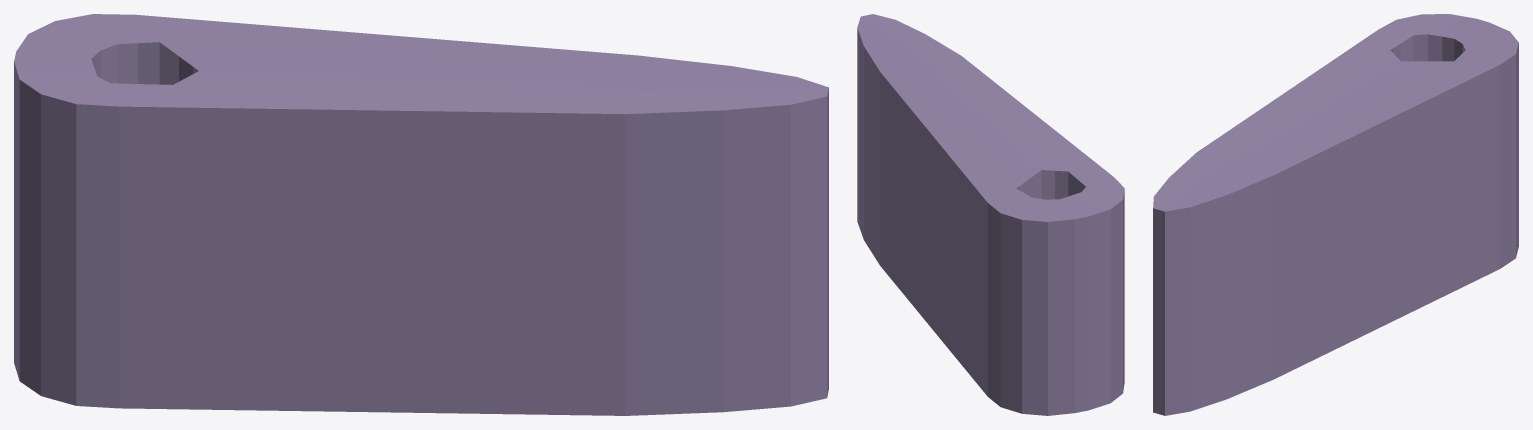
File: Flipper.obj
3 views of the same model, side by side, from view 1: azimuth 30°, elevation 25°; view 2: azimuth 150°, elevation 25°; view 3: azimuth 270°, elevation 25° (orthographic). The views are drawn at different scales.
Visible parts, largest first — view 1: Plane_009_Plane_005; view 2: Plane_009_Plane_005; view 3: Plane_009_Plane_005.
Part boxes in pixels (box(x1,y1,x2,y2)): Plane_009_Plane_005: box(14, 14, 828, 415); Plane_009_Plane_005: box(857, 14, 1124, 415); Plane_009_Plane_005: box(1153, 14, 1518, 415).
Bounding box in the file's own units: 0.0623 × 0.03 × 0.0487.
Materials: 1 (1 with a texture image).
